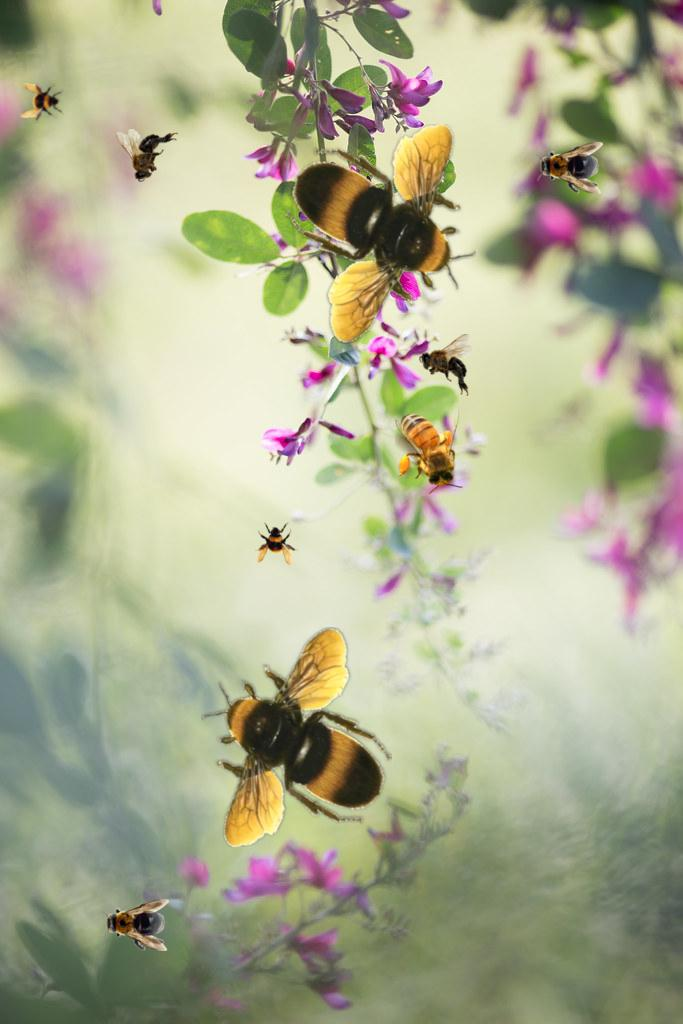Bee: (285, 124, 476, 344), (201, 627, 392, 847), (395, 401, 463, 494), (535, 142, 603, 194), (101, 899, 169, 951), (419, 334, 472, 396), (116, 129, 178, 182), (255, 522, 299, 566), (20, 81, 64, 125)
